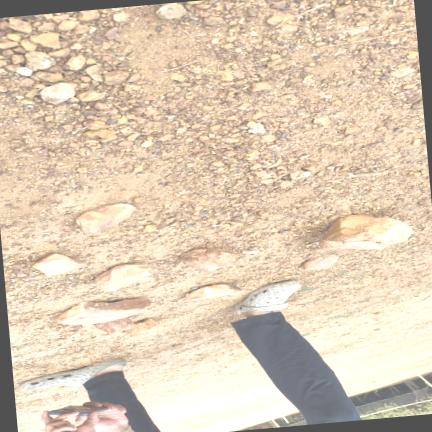Rocks: (320, 214, 412, 248), (56, 298, 150, 324), (77, 203, 135, 232), (94, 263, 153, 290), (180, 247, 238, 270), (33, 253, 86, 274), (83, 317, 134, 337), (186, 283, 242, 300), (40, 82, 75, 103), (125, 318, 157, 336), (25, 50, 55, 69), (302, 254, 338, 269), (30, 31, 61, 47), (156, 2, 186, 18), (104, 69, 129, 84), (8, 17, 32, 32), (267, 12, 294, 24), (76, 89, 105, 100), (35, 70, 63, 81), (86, 64, 103, 81), (84, 128, 116, 137), (67, 54, 86, 69), (334, 4, 354, 17), (247, 120, 266, 133), (391, 66, 415, 76), (77, 10, 99, 20), (204, 14, 224, 25), (250, 80, 272, 90), (85, 119, 106, 129), (58, 18, 77, 29), (278, 23, 297, 34), (290, 169, 312, 178), (21, 38, 37, 50), (348, 25, 368, 34), (113, 10, 129, 21), (105, 26, 118, 38), (16, 66, 33, 75), (170, 72, 187, 81), (313, 115, 329, 123), (271, 0, 286, 8), (145, 223, 157, 231), (412, 99, 422, 108), (407, 50, 418, 58), (0, 170, 2, 175)
